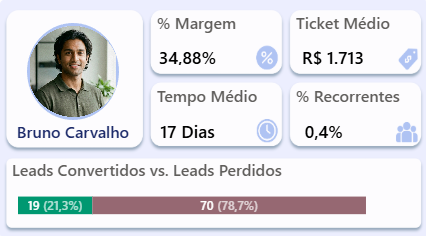

This screenshot's page, from the dashboard's own definition file:
{"tool":"powerbi","page":{"name":"Tooltip Vendedores","canvas":[430,240],"ordinal":4},"visuals":[{"type":"barChart","fields":{"Y":["Medidas.Qtd Leads Convertidos","Medidas.Qtd Leads Perdidos"]},"box":[14,146,401,94],"z":0},{"type":"shape","box":[27.8,23.7,91.8,97.3],"z":1000,"group":"g1"},{"type":"card","fields":{"Values":["Medidas.Vendedor Selecionado"]},"box":[3.6,78.1,140,113.5],"z":1000},{"type":"image","box":[30.7,26.7,85.7,91.4],"z":2000,"group":"g1"},{"type":"cardVisual","fields":{"Data":["Medidas.% Margem de Lucro"]},"box":[125.2,29.6,126.8,53.2],"z":2000},{"type":"textbox","box":[152.8,8,152.4,42],"z":3000},{"type":"textbox","box":[292.4,8,130.8,42],"z":4000},{"type":"cardVisual","fields":{"Data":["Medidas.Ticket Médio"]},"box":[261.6,29.6,144.8,53.2],"z":5000},{"type":"textbox","box":[152.8,81.2,111.6,42.8],"z":6000},{"type":"textbox","box":[292.4,81.2,130.8,42.8],"z":7000},{"type":"cardVisual","fields":{"Data":["Medidas.% Clientes Recorrentes"]},"box":[262,103,126,55],"z":8000},{"type":"cardVisual","fields":{"Data":["Medidas.Tempo Médio de Conversão (formatado)"]},"box":[125.2,103.6,126.8,53.2],"z":9000},{"type":"group","id":"g1","title":"Grupo 1","box":[27.8,23.7,91.8,99],"z":10000},{"type":"textbox","box":[7.6,155.2,284.8,43.2],"z":11000}]}

Visuals, with their boxes in screenshot pixels (x1, y1, x2, y2), scaled from the page's 430x240 canvas onto the 426x236 screenshot:
barChart - Medidas.Qtd Leads Convertidos x Medidas.Qtd Leads Perdidos: <region>14, 144, 411, 235</region>
shape: <region>28, 23, 118, 119</region>
card - Medidas.Vendedor Selecionado: <region>4, 77, 142, 188</region>
image: <region>30, 26, 115, 116</region>
cardVisual - Medidas.% Margem de Lucro: <region>124, 29, 250, 81</region>
textbox: <region>151, 8, 302, 49</region>
textbox: <region>290, 8, 419, 49</region>
cardVisual - Medidas.Ticket Médio: <region>259, 29, 403, 81</region>
textbox: <region>151, 80, 262, 122</region>
textbox: <region>290, 80, 419, 122</region>
cardVisual - Medidas.% Clientes Recorrentes: <region>260, 101, 384, 155</region>
cardVisual - Medidas.Tempo Médio de Conversão (formatado): <region>124, 102, 250, 154</region>
"Grupo 1" group: <region>28, 23, 118, 121</region>
textbox: <region>8, 153, 290, 195</region>
